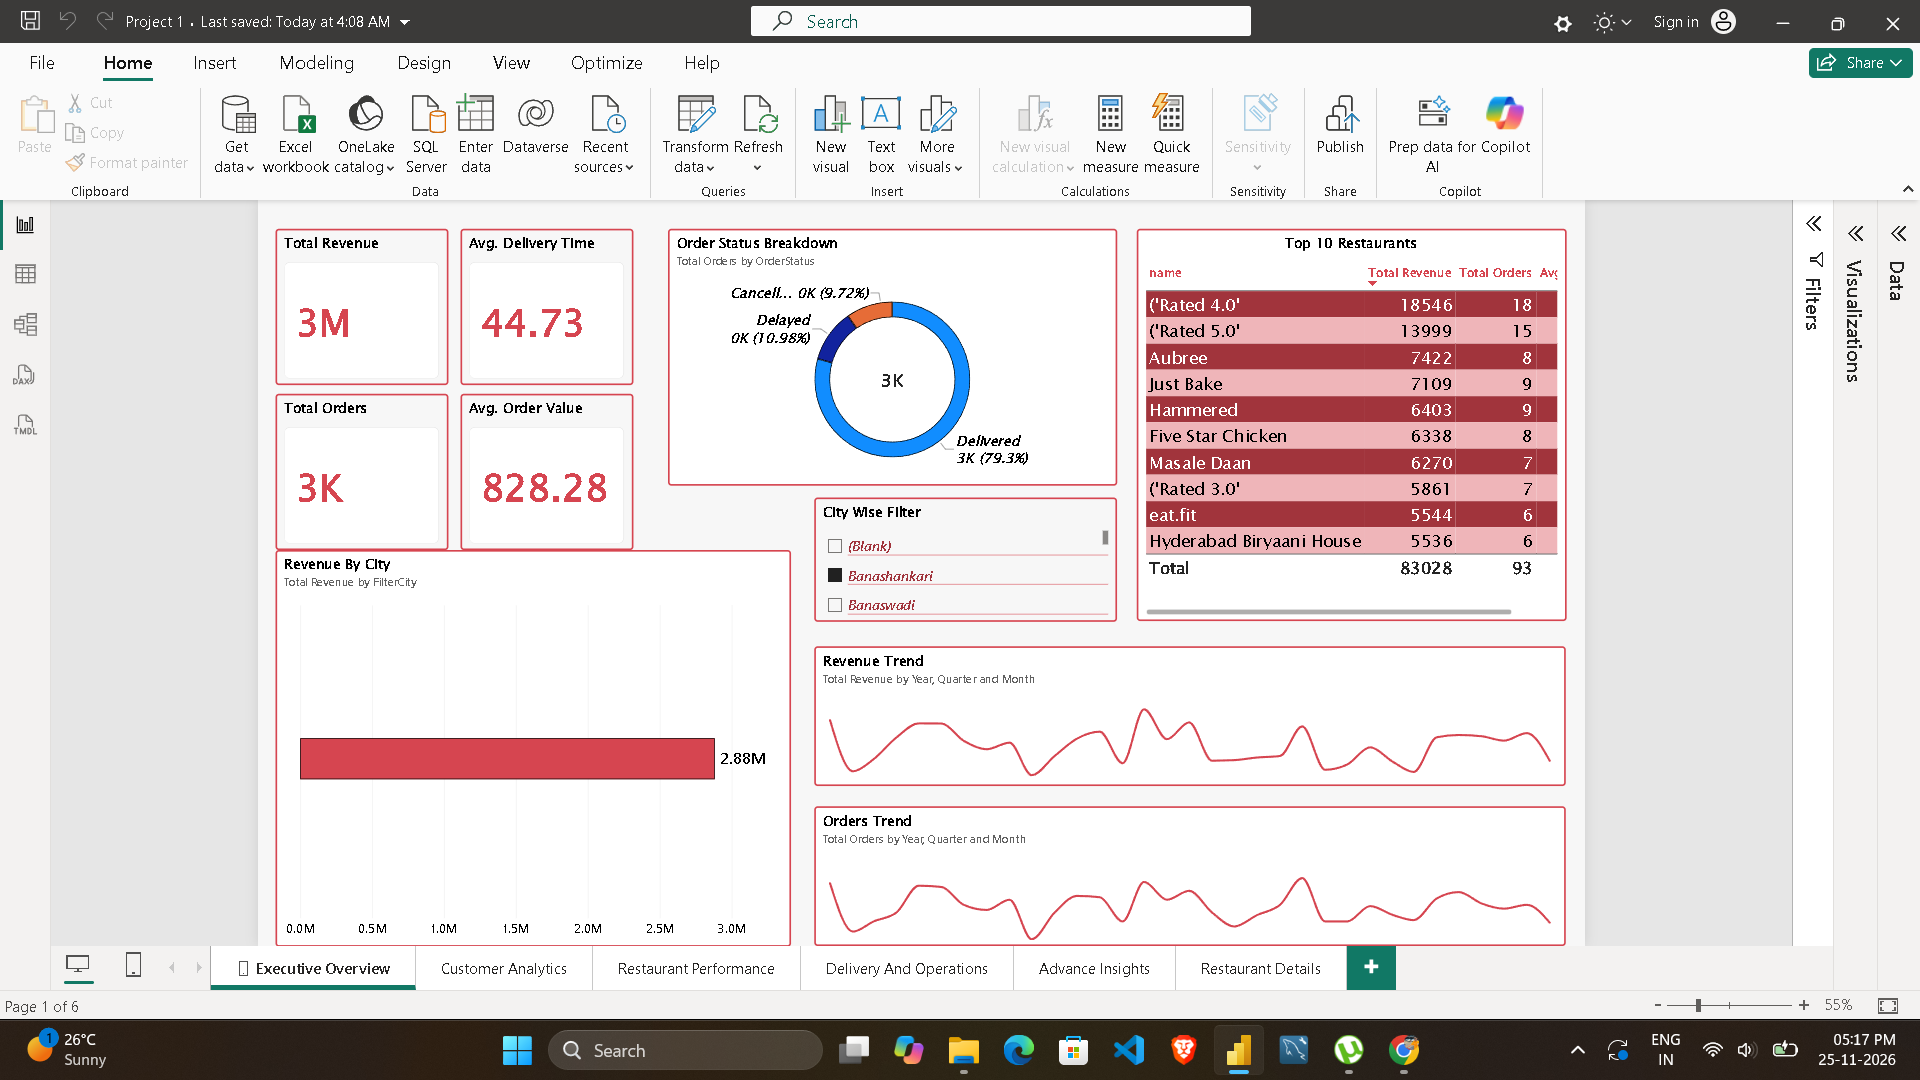

The page's visual inventory and layout, read from the dashboard file:
{"tool":"powerbi","page":{"name":"Executive Overview","canvas":[1920,1080],"ordinal":0},"visuals":[{"type":"cardVisual","title":"Total Revenue","fields":{"Data":["Orders.Total Revenue"]},"box":[26,42,250,226],"z":0},{"type":"cardVisual","title":"Total Orders","fields":{"Data":["Orders.Total Orders"]},"box":[26,280,250,226],"z":1000},{"type":"cardVisual","title":"Avg. Delivery TIme","fields":{"Data":["Orders.Avg Delivery Time"]},"box":[294,42,250,226],"z":2000},{"type":"cardVisual","title":"Avg. Order Value","fields":{"Data":["Orders.Avg Order Value"]},"box":[294,280,250,226],"z":3000},{"type":"lineChart","title":"Revenue Trend","fields":{"Category":["DateTable.Date.Variation.Date Hierarchy.Year","DateTable.Date.Variation.Date Hierarchy.Quarter","DateTable.Date.Variation.Date Hierarchy.Month"],"Y":["Orders.Total Revenue"]},"box":[806,646,1088,202],"z":4000},{"type":"lineChart","title":"Orders Trend","fields":{"Category":["DateTable.Date.Variation.Date Hierarchy.Year","DateTable.Date.Variation.Date Hierarchy.Quarter","DateTable.Date.Variation.Date Hierarchy.Month"],"Y":["Orders.Total Orders"]},"box":[806,878,1088,202],"z":5000},{"type":"barChart","title":"Revenue By City","fields":{"Category":["Customers.FilterCity"],"Y":["Orders.Total Revenue"]},"box":[26,506,746,574],"z":6000},{"type":"donutChart","title":"Order Status Breakdown","fields":{"Category":["Orders.OrderStatus"],"Y":["Orders.Total Orders"]},"box":[594,42,650,372],"z":7000},{"type":"tableEx","title":"Top 10 Restaurants","fields":{"Values":["Restaurants.name","Orders.Total Revenue","Orders.Total Orders","Orders.Avg Rating"]},"box":[1272,42,622,568],"z":8000},{"type":"slicer","title":"City Wise FIlter","fields":{"Values":["Customers.FilterCity"]},"box":[806,430,438,180],"z":8002}]}

Visuals, with their boxes on the page's 1920x1080 design canvas (x1, y1, x2, y2). These are canvas units, not pixel positions in the 1920x1080 screenshot, which may show the page scaled, cropped or inside an application window:
"Total Revenue" cardVisual: [left=26, top=42, right=276, bottom=268]
"Total Orders" cardVisual: [left=26, top=280, right=276, bottom=506]
"Avg. Delivery TIme" cardVisual: [left=294, top=42, right=544, bottom=268]
"Avg. Order Value" cardVisual: [left=294, top=280, right=544, bottom=506]
"Revenue Trend" lineChart: [left=806, top=646, right=1894, bottom=848]
"Orders Trend" lineChart: [left=806, top=878, right=1894, bottom=1080]
"Revenue By City" barChart: [left=26, top=506, right=772, bottom=1080]
"Order Status Breakdown" donutChart: [left=594, top=42, right=1244, bottom=414]
"Top 10 Restaurants" tableEx: [left=1272, top=42, right=1894, bottom=610]
"City Wise FIlter" slicer: [left=806, top=430, right=1244, bottom=610]
